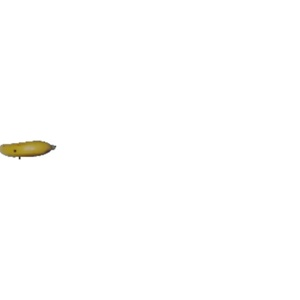banana: (1, 138, 56, 161)
